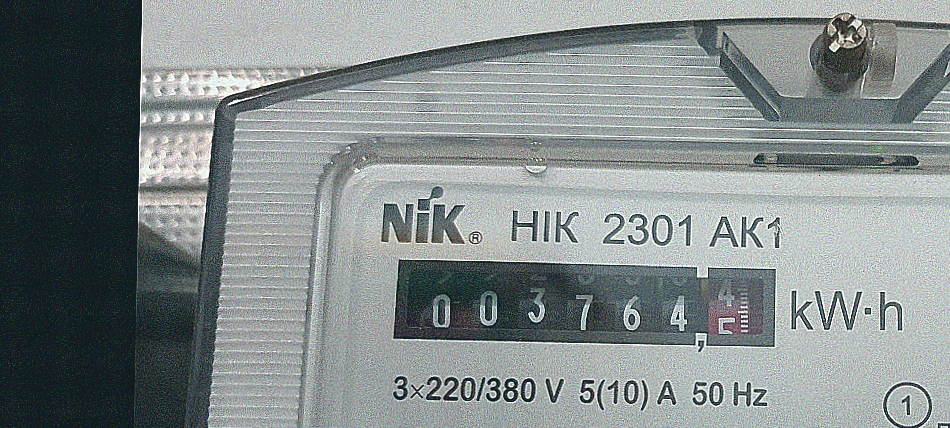0: (428, 291, 453, 329), (476, 288, 499, 327)
3: (524, 284, 548, 324)
4: (669, 293, 689, 332), (716, 276, 737, 308)
5: (715, 314, 737, 336)
6: (621, 293, 642, 332)
7: (572, 290, 596, 332)
screen: (379, 243, 792, 361)
